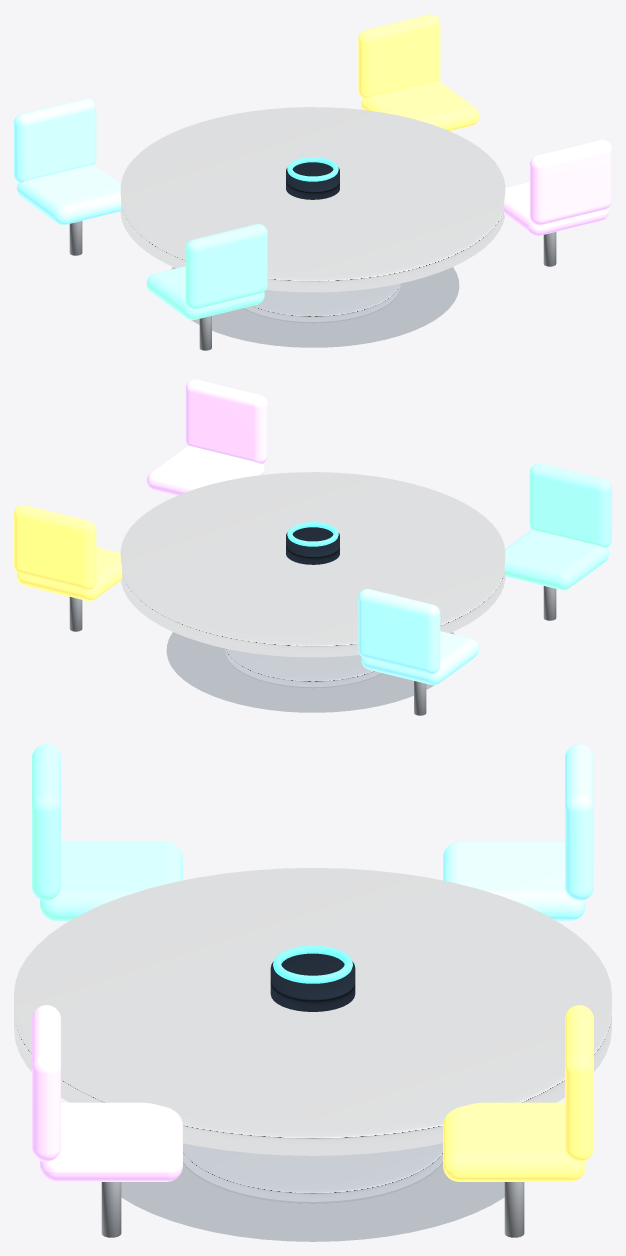
Rendered from meeting.glb.
3 renders of one model, top to bottom at view 1: azimuth 30°, elevation 25°; view 2: azimuth 150°, elevation 25°; view 3: azimuth 270°, elevation 25°, orthographic. The views are drawn at different scales.
Visible parts, largest first — view 1: meeting_table_top, meeting_contact_shadow, meeting_back_2, meeting_back_3, meeting_back_1, meeting_back_0, meeting_seat_0, meeting_table_foot, meeting_seat_1, meeting_seat_2, meeting_seat_3, meeting_center_device (+3 smaller); view 2: meeting_table_top, meeting_contact_shadow, meeting_back_0, meeting_back_1, meeting_back_3, meeting_back_2, meeting_seat_2, meeting_table_foot, meeting_seat_3, meeting_seat_0, meeting_seat_1, meeting_center_device (+3 smaller); view 3: meeting_table_top, meeting_contact_shadow, meeting_table_foot, meeting_seat_1, meeting_seat_3, meeting_seat_0, meeting_seat_2, meeting_back_1, meeting_back_3, meeting_back_0, meeting_back_2, meeting_center_device (+3 smaller).
Boxes of the visible parts, x1,y1,x2,y2 form: meeting_table_top: (120, 107, 505, 292); meeting_contact_shadow: (172, 267, 458, 347); meeting_back_2: (185, 224, 267, 309); meeting_back_3: (529, 140, 611, 225); meeting_back_1: (358, 14, 440, 98); meeting_back_0: (14, 98, 96, 182); meeting_seat_0: (17, 164, 121, 225); meeting_table_foot: (243, 283, 400, 323); meeting_seat_1: (361, 80, 479, 131); meeting_seat_2: (146, 266, 264, 320); meeting_seat_3: (503, 182, 608, 236); meeting_center_device: (286, 162, 339, 199); meeting_table_top: (120, 472, 505, 657); meeting_contact_shadow: (167, 632, 453, 712); meeting_back_0: (358, 589, 440, 674); meeting_back_1: (14, 505, 96, 590); meeting_back_3: (185, 379, 267, 463); meeting_back_2: (529, 463, 611, 547); meeting_seat_2: (504, 529, 608, 590); meeting_table_foot: (225, 648, 382, 688); meeting_seat_3: (146, 445, 264, 496); meeting_seat_0: (361, 631, 479, 685); meeting_seat_1: (17, 547, 122, 601); meeting_center_device: (286, 527, 339, 564); meeting_table_top: (14, 868, 611, 1155); meeting_contact_shadow: (121, 1163, 504, 1241); meeting_table_foot: (183, 1143, 442, 1203); meeting_seat_1: (443, 1102, 585, 1181); meeting_seat_3: (40, 1102, 182, 1181); meeting_seat_0: (443, 841, 585, 920); meeting_seat_2: (40, 841, 182, 920); meeting_back_1: (565, 1005, 593, 1161); meeting_back_3: (32, 1005, 60, 1161); meeting_back_0: (565, 744, 593, 900); meeting_back_2: (32, 744, 60, 900); meeting_center_device: (270, 953, 355, 1011).
Size of the model in its own units: 2.34 by 0.835 by 1.84.
